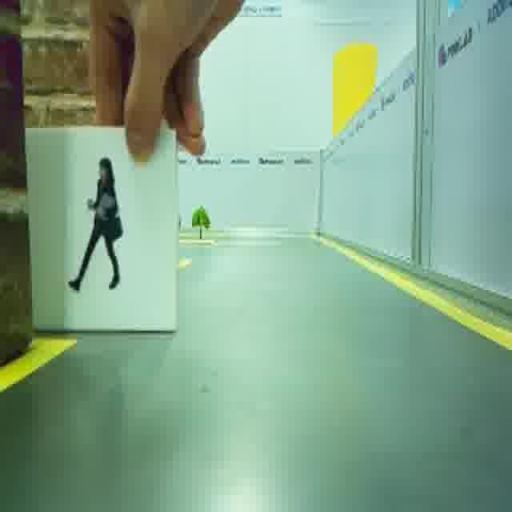human: (68, 157, 122, 291)
